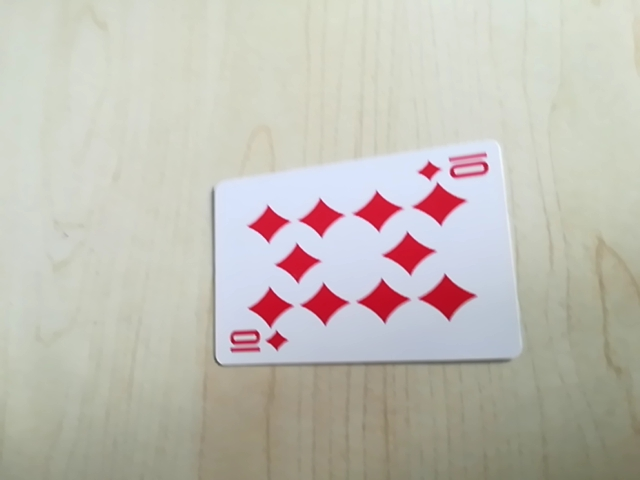fk 10: (417, 148, 496, 189), (223, 326, 290, 363)
